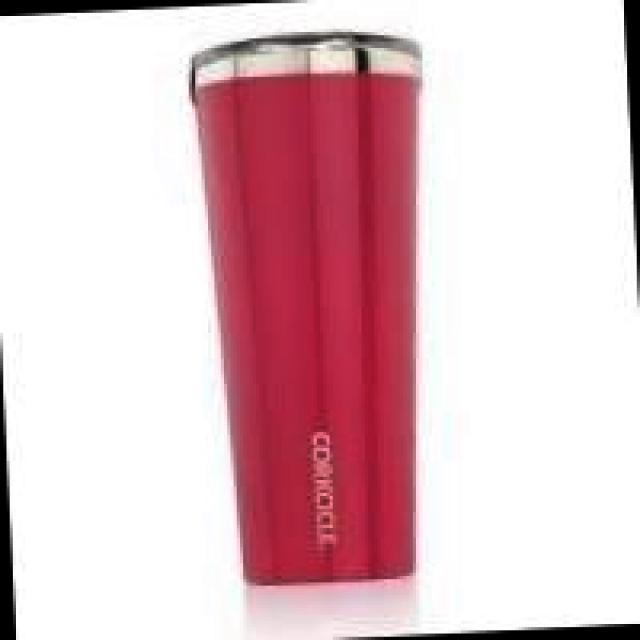bottle: (187, 24, 450, 590)
